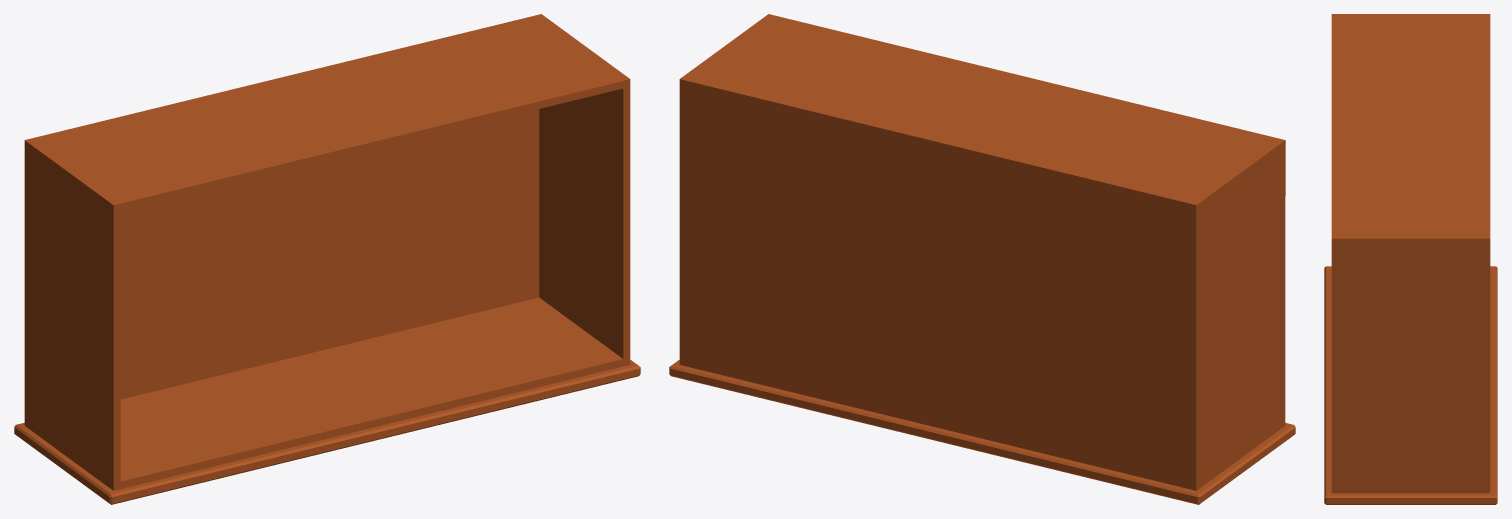
The model's file is DrawermeshDeskDrawer_304_1_1.obj.
3 renders of one model, left to right at view 1: azimuth 30°, elevation 25°; view 2: azimuth 150°, elevation 25°; view 3: azimuth 270°, elevation 25°, orthographic. The views are drawn at different scales.
Parts seen in each view (by area): view 1: DeskDrawer_304_1; view 2: DeskDrawer_304_1; view 3: DeskDrawer_304_1.
Part boxes in pixels (x1=…): DeskDrawer_304_1: x1=14, y1=14, x2=640, y2=504; DeskDrawer_304_1: x1=669, y1=14, x2=1295, y2=504; DeskDrawer_304_1: x1=1324, y1=14, x2=1497, y2=504.
Size of the model in its own units: 0.7389 by 0.3937 by 0.2345.
